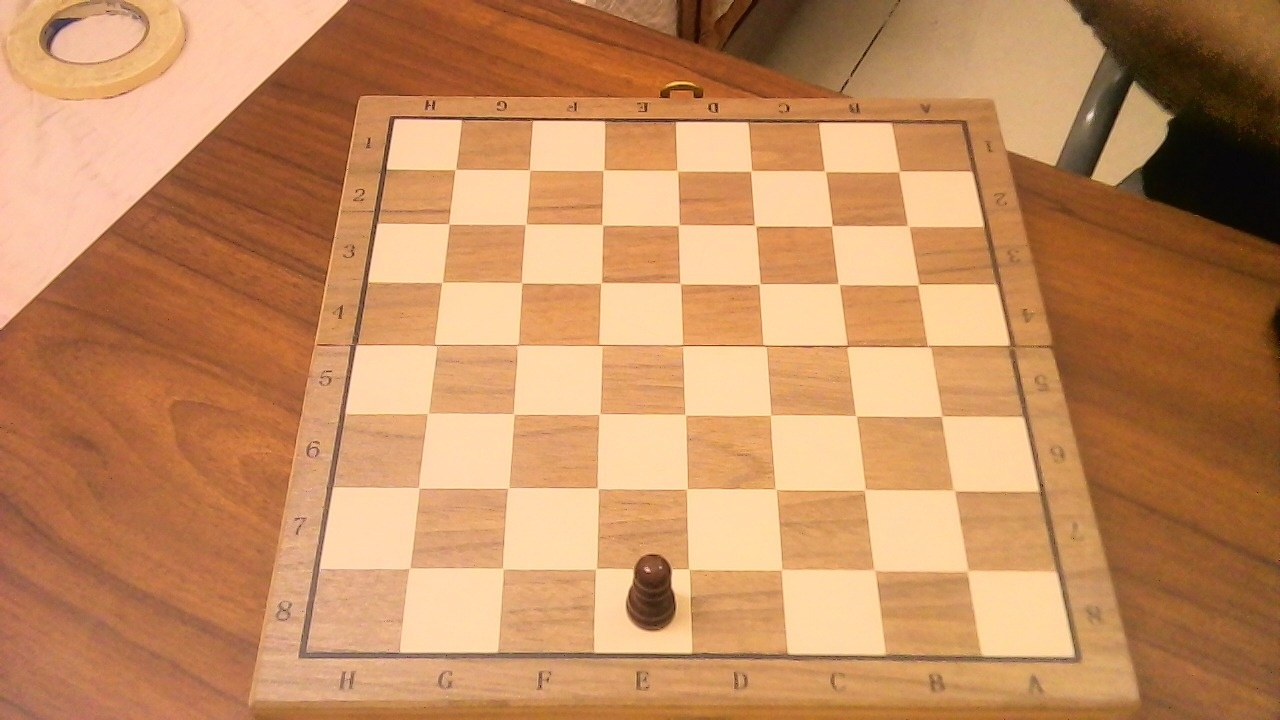p: (619, 548, 692, 639)
